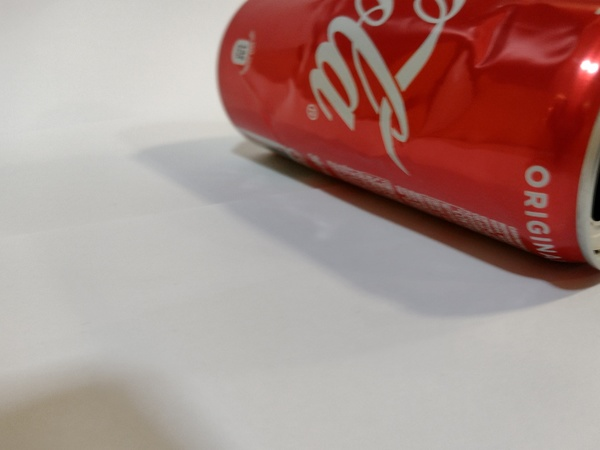can: (214, 3, 596, 280)
